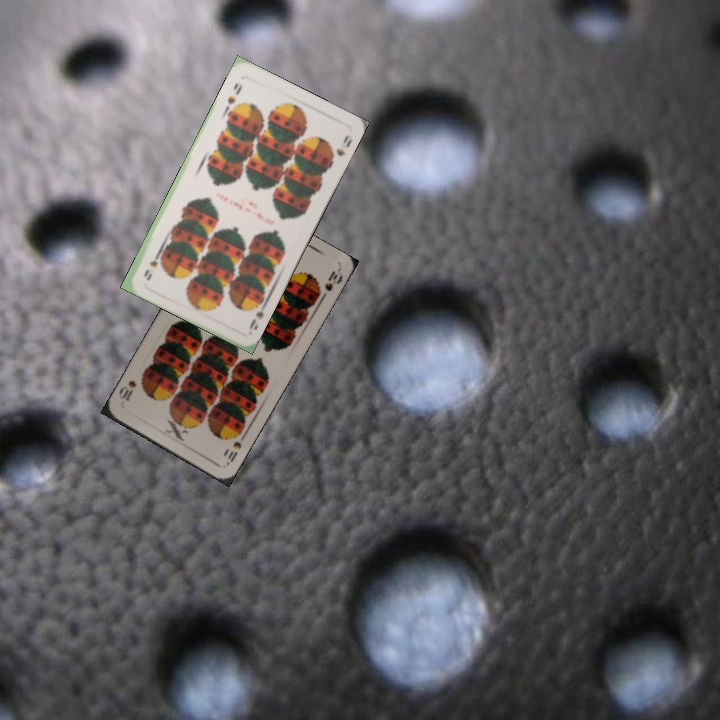S10: (222, 428, 248, 467)
S9: (245, 296, 270, 336), (223, 78, 245, 114)
